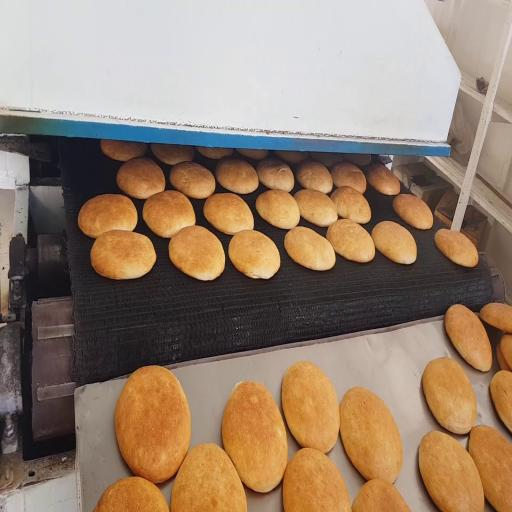bread: (115, 366, 190, 483), (222, 382, 287, 492), (340, 387, 402, 483), (282, 361, 339, 453), (419, 431, 484, 511), (171, 444, 247, 511), (422, 357, 477, 434), (283, 448, 350, 511), (469, 426, 511, 511), (91, 230, 156, 279), (445, 305, 492, 371), (169, 226, 225, 280), (78, 194, 137, 238), (229, 230, 280, 279), (95, 477, 168, 511), (143, 191, 195, 238), (284, 227, 335, 270), (327, 220, 374, 263), (117, 157, 165, 199), (204, 193, 253, 234), (372, 221, 417, 264), (352, 479, 410, 511), (256, 190, 300, 229), (170, 162, 215, 199), (435, 229, 478, 267), (294, 189, 337, 227), (331, 186, 371, 224), (216, 158, 258, 194), (393, 194, 433, 229), (490, 371, 511, 432), (257, 158, 294, 191), (296, 161, 332, 193), (331, 162, 366, 193), (367, 164, 400, 195), (101, 140, 147, 161), (480, 303, 511, 333), (151, 144, 194, 165), (196, 146, 233, 160), (496, 342, 512, 371), (310, 153, 343, 167), (275, 151, 308, 164), (500, 334, 511, 367), (237, 149, 268, 160), (344, 154, 371, 165)
